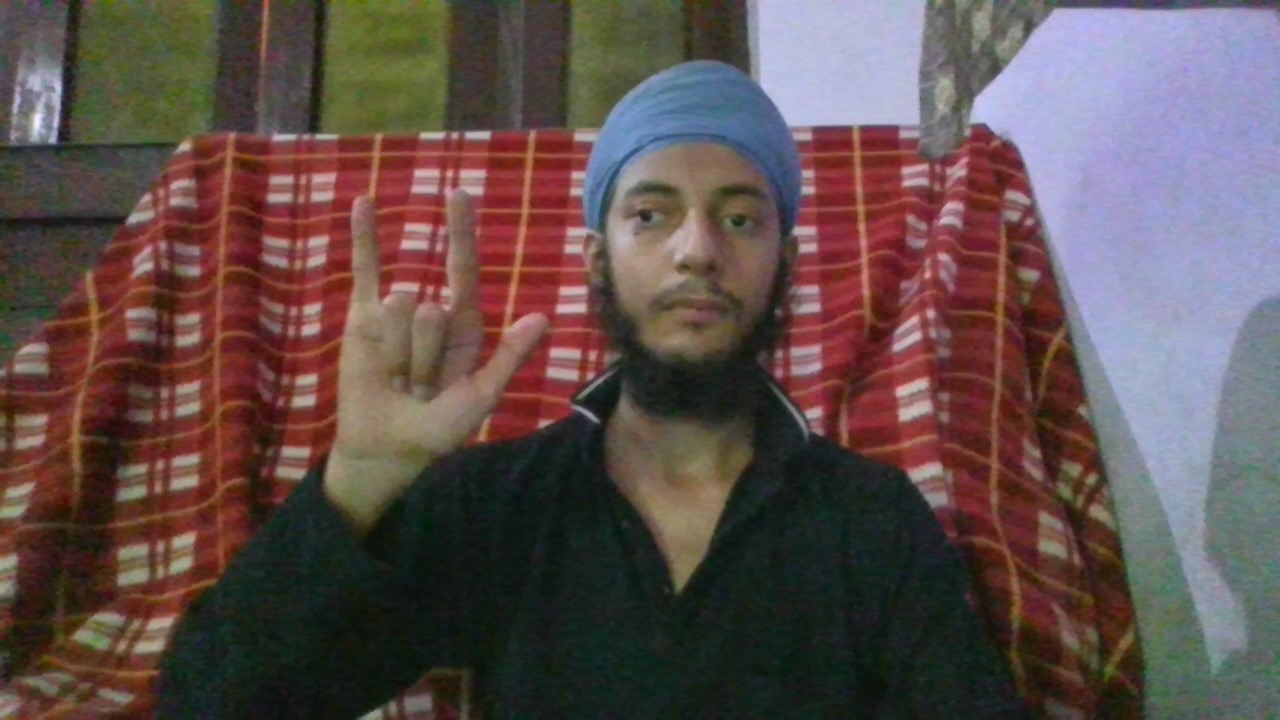I Love You: (340, 185, 552, 455)
